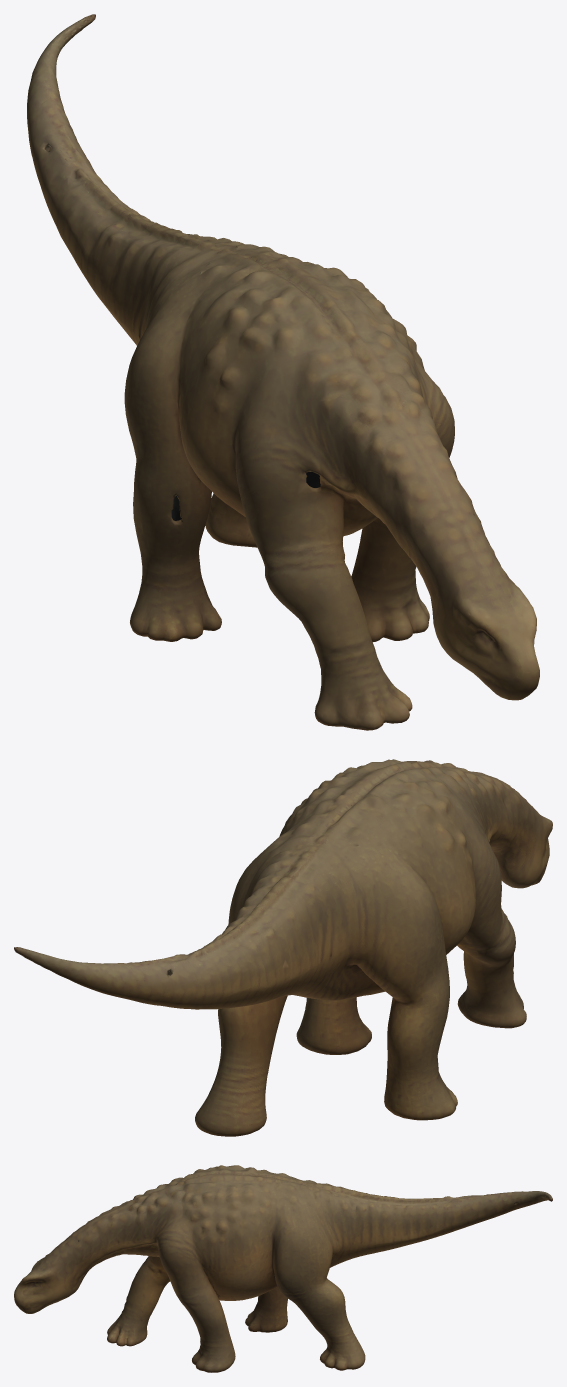
The picture shows the model from 3 angles, top to bottom: view 1: azimuth 30°, elevation 25°; view 2: azimuth 150°, elevation 25°; view 3: azimuth 270°, elevation 25°; orthographic projection. The views are drawn at different scales.
Parts seen in each view (by area): view 1: world; view 2: world; view 3: world.
Boxes of the visible parts, left/top/right/bottom form: world: left=27, top=14, right=539, bottom=730; world: left=14, top=759, right=552, bottom=1136; world: left=14, top=1165, right=552, bottom=1372.
Bounding box in the file's own units: 2.25 × 3.1 × 8.5.
Materials: 1 (1 with a texture image).
